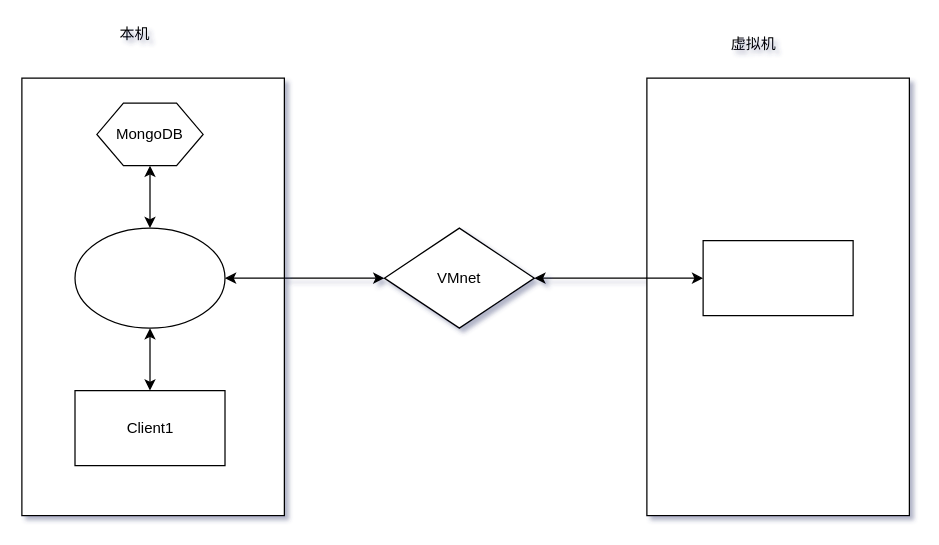
The diagram is 939 pixels wide and 545 high, and some of its shapes have lost their labels. The centre of each missing label's shape, as x and y in pixels:
"Client2" goes at [777,277].
"Server" goes at [149,277].
